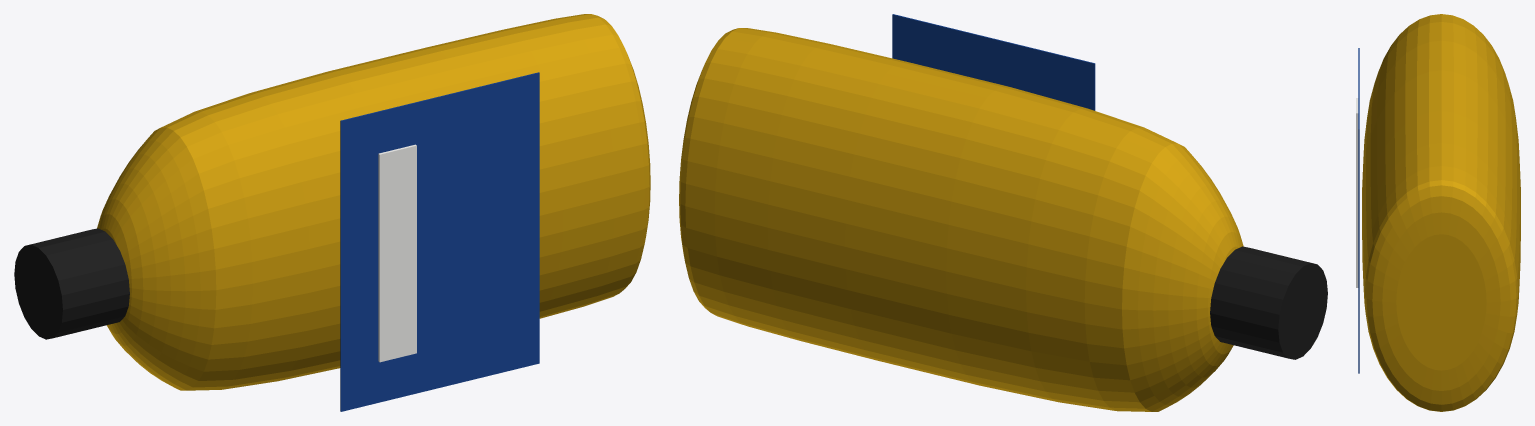
The model's file is oleo_motor.glb.
The picture shows the model from 3 angles, left to right: view 1: azimuth 30°, elevation 25°; view 2: azimuth 150°, elevation 25°; view 3: azimuth 270°, elevation 25°; orthographic projection. The views are drawn at different scales.
Visible parts, largest first — view 1: oleo_motor_amarelo_tampa, oleo_motor_azul_ferramenta, oleo_motor_plastico_preto, oleo_motor_plastico_branco; view 2: oleo_motor_amarelo_tampa, oleo_motor_plastico_preto, oleo_motor_azul_ferramenta; view 3: oleo_motor_amarelo_tampa, oleo_motor_azul_ferramenta, oleo_motor_plastico_branco.
Boxes of the visible parts, x1,y1,x2,y2 form: oleo_motor_amarelo_tampa: (97,14,650,390); oleo_motor_azul_ferramenta: (340,72,539,411); oleo_motor_plastico_preto: (14,228,129,339); oleo_motor_plastico_branco: (378,144,416,362); oleo_motor_amarelo_tampa: (679,28,1243,411); oleo_motor_plastico_preto: (1210,246,1327,359); oleo_motor_azul_ferramenta: (892,14,1095,110); oleo_motor_amarelo_tampa: (1362,14,1520,411); oleo_motor_azul_ferramenta: (1358,48,1359,373); oleo_motor_plastico_branco: (1356,98,1358,287).
Size of the model in its own units: 0.232 by 0.112 by 0.0685.
